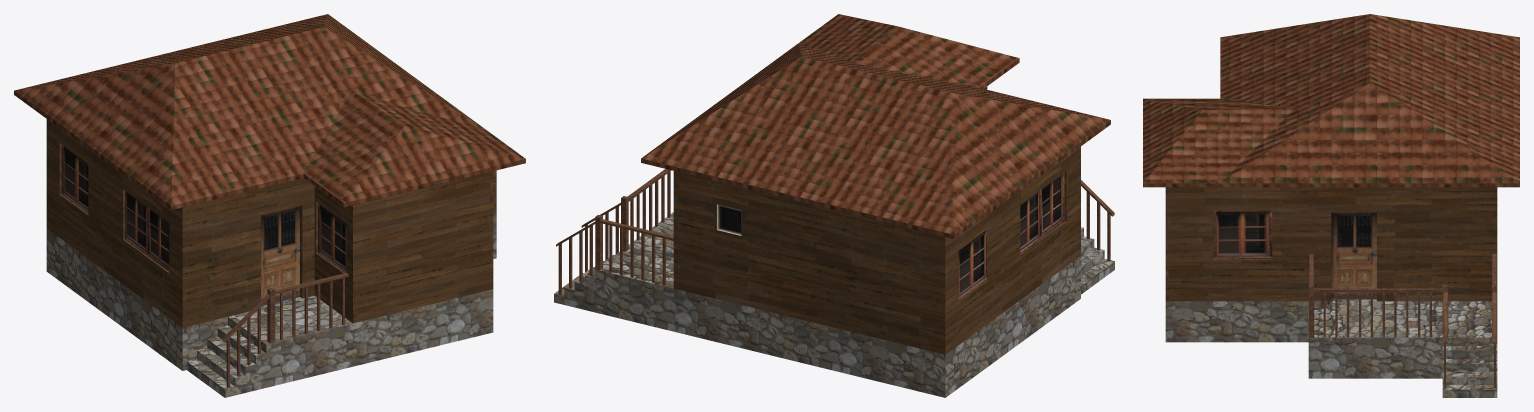
File: house5.glb
3 renders of one model, left to right at view 1: azimuth 30°, elevation 25°; view 2: azimuth 150°, elevation 25°; view 3: azimuth 270°, elevation 25°, orthographic. The views are drawn at different scales.
Visible parts, largest first — view 1: house5, house5_windows, house5_door1; view 2: house5, house5_windows; view 3: house5, house5_door2, house5_windows.
Boxes of the visible parts, left/top/right/bottom form: house5: left=14, top=14, right=525, bottom=397; house5_windows: left=59, top=143, right=346, bottom=273; house5_door1: left=261, top=206, right=299, bottom=305; house5: left=554, top=14, right=1114, bottom=397; house5_windows: left=716, top=171, right=1066, bottom=301; house5: left=1143, top=14, right=1519, bottom=397; house5_door2: left=1331, top=212, right=1376, bottom=299; house5_windows: left=1213, top=210, right=1272, bottom=259.
Bounding box in the file's own units: 10 × 5.6 × 8.3.
1 material, 1 textured.
